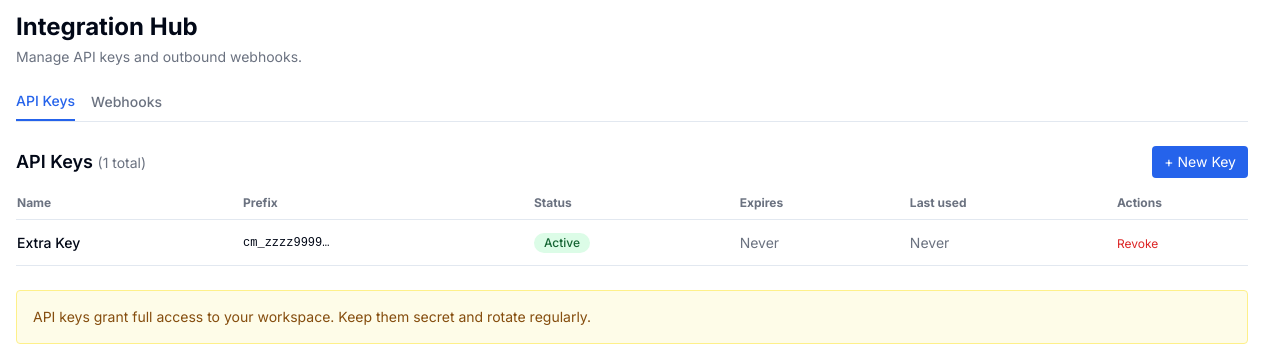
Test: IntegrationCenter — extra › switching back from webhooks to api-keys shows api panel
The width and height of the screenshot is (1265, 361).
Click the button with test id "tab-webhooks" at (127, 106), box [91, 91, 162, 121]
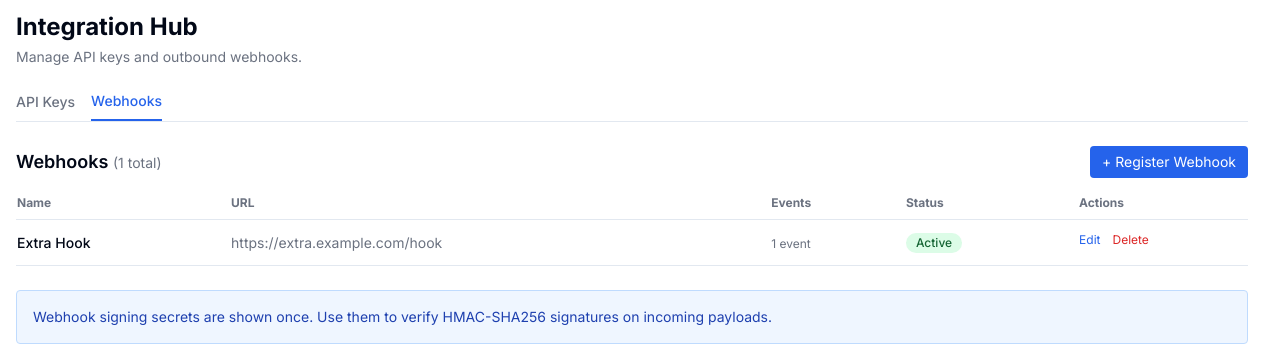
Click the button with test id "tab-api-keys" at (46, 106), box [16, 91, 75, 121]
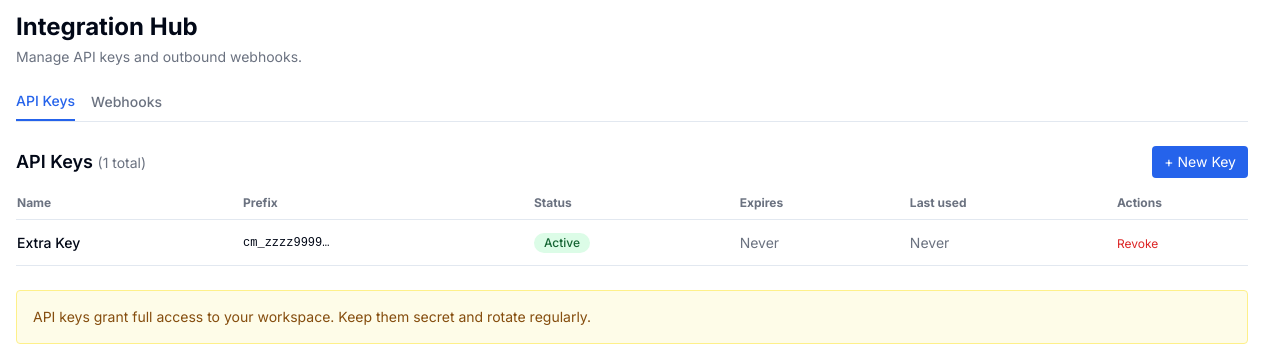
Expected: the element with test id "panel-api-keys" is shown, [16, 146, 1248, 344]
